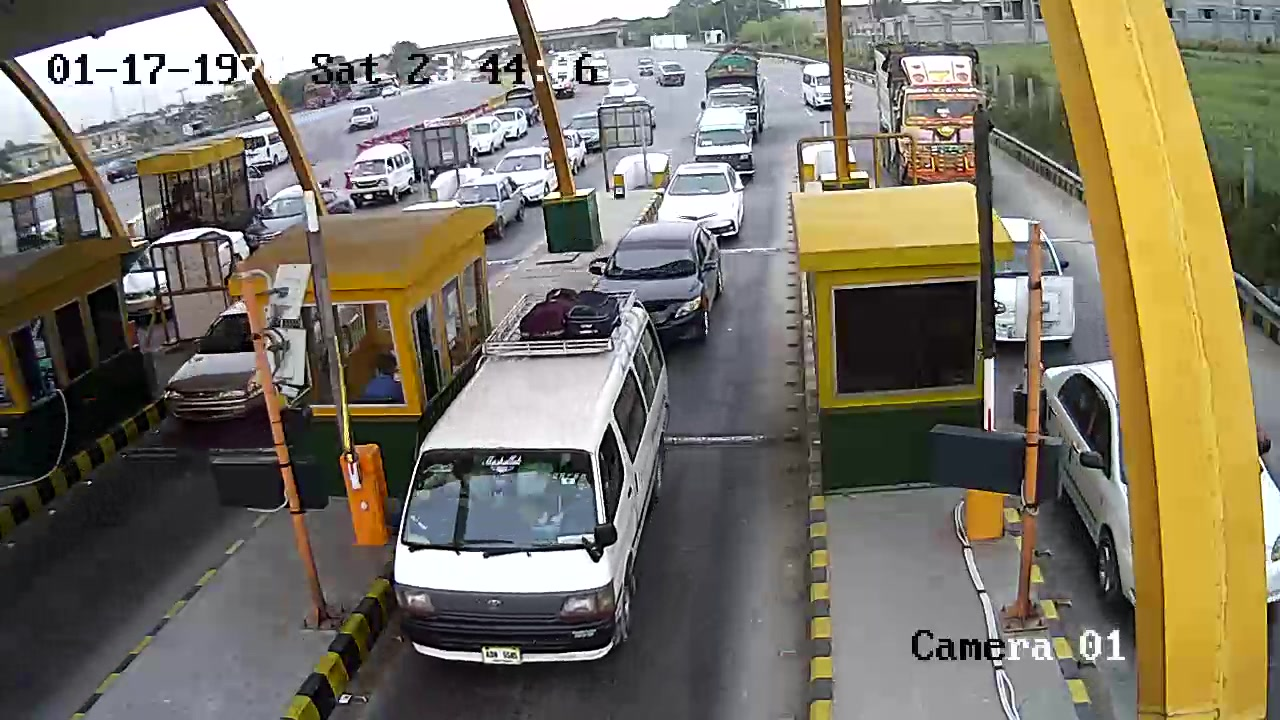F3: (387, 281, 680, 680)
